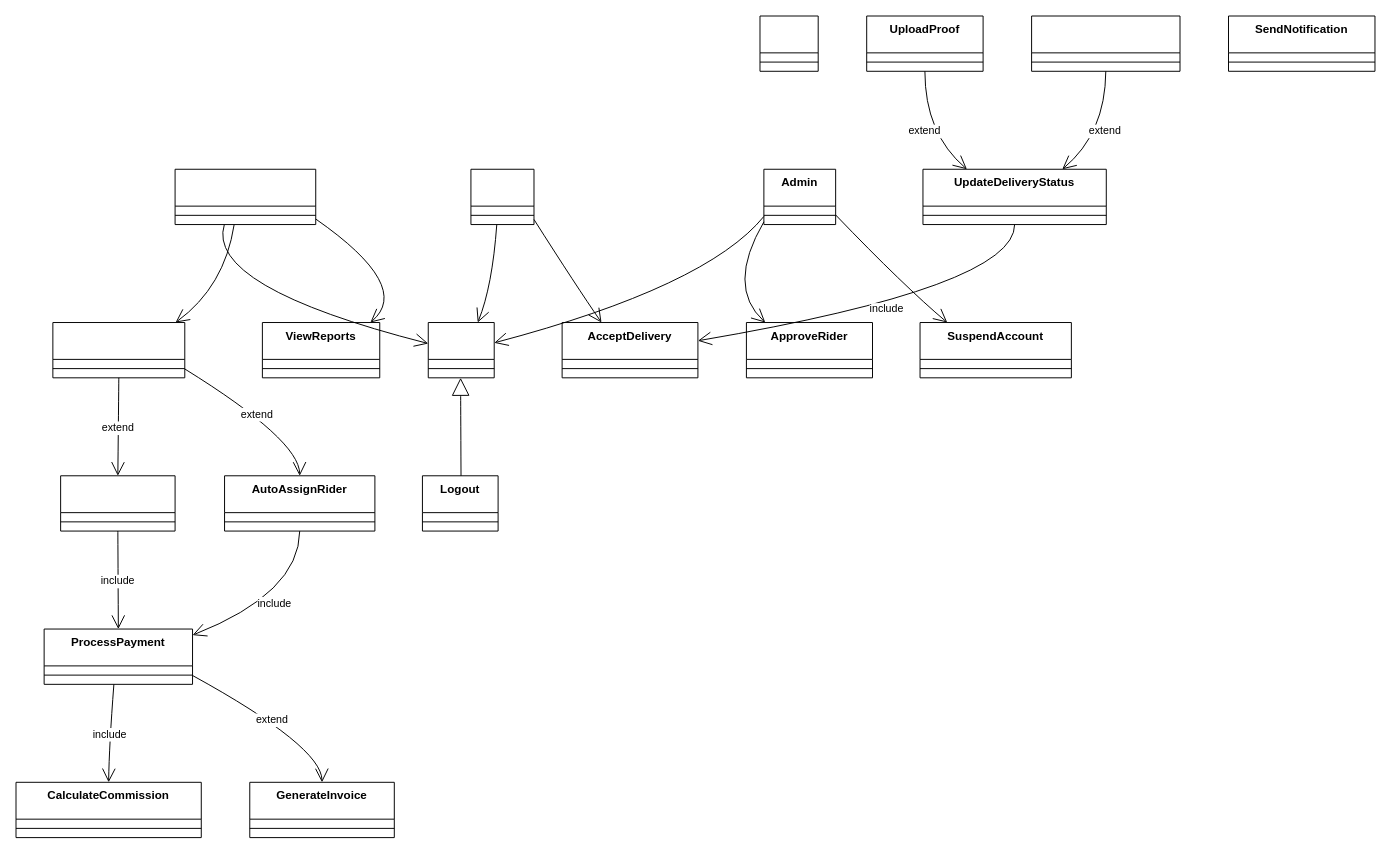
Image size: 1391x854. Some labels were removed from this diagram. Each missing label, with the centre of its shape:
"AssignRider" goes at [117,503].
"BusinessOwner" goes at [245,196].
"CreateDelivery" goes at [118,350].
"Login" goes at [460,350].
"ReceiveEarnings" goes at [1105,43].
"Rider" goes at [502,196].
"User" goes at [788,43].
